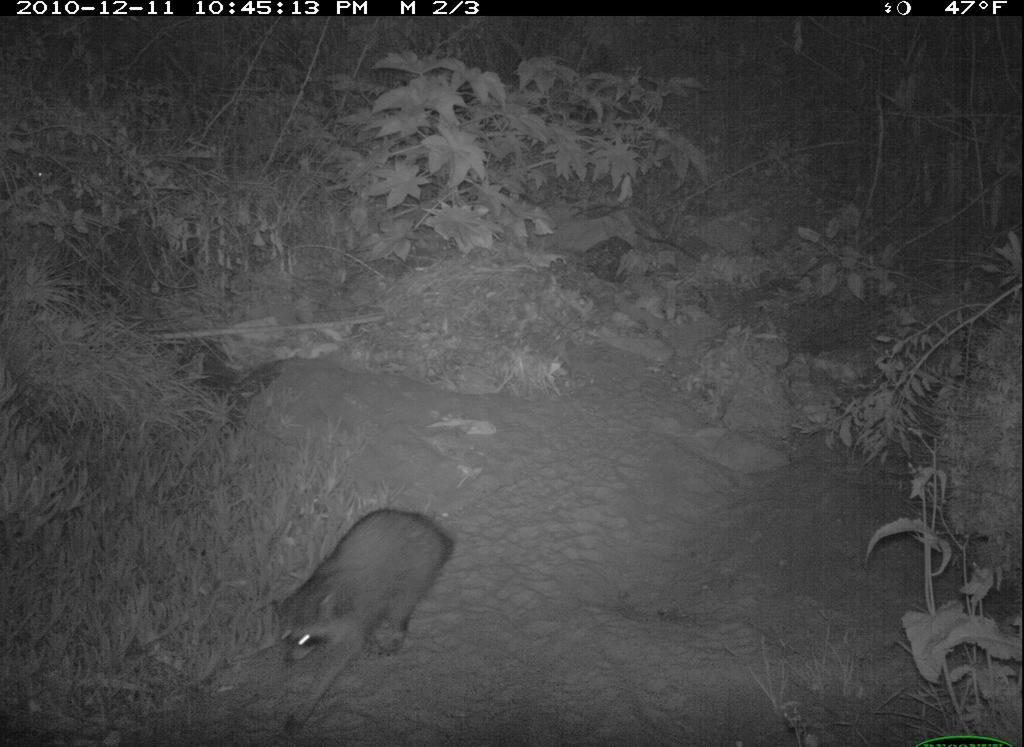raccoon: (262, 511, 459, 734)
